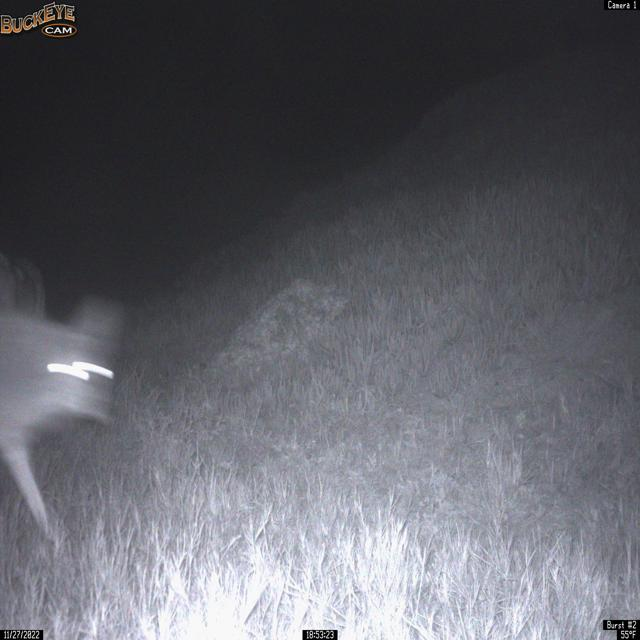coyote: (0, 282, 126, 562)
